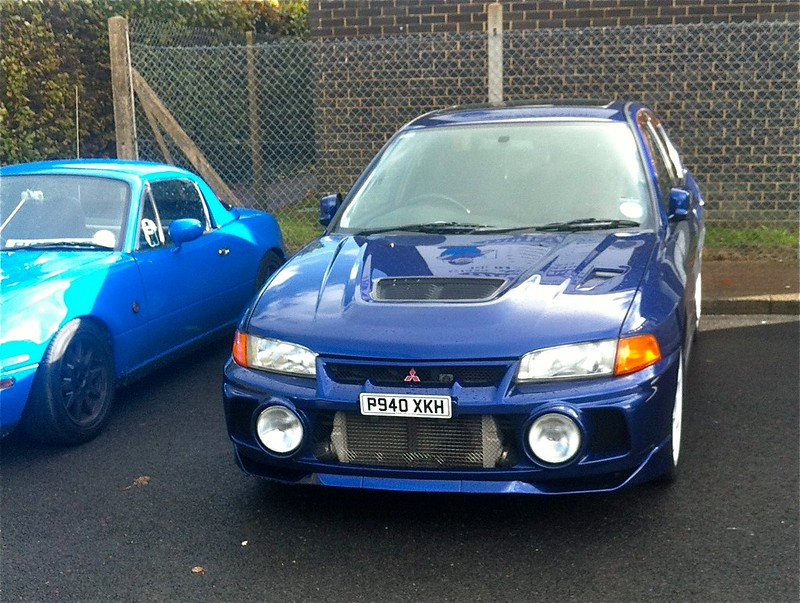number_plate: (355, 387, 458, 422)
